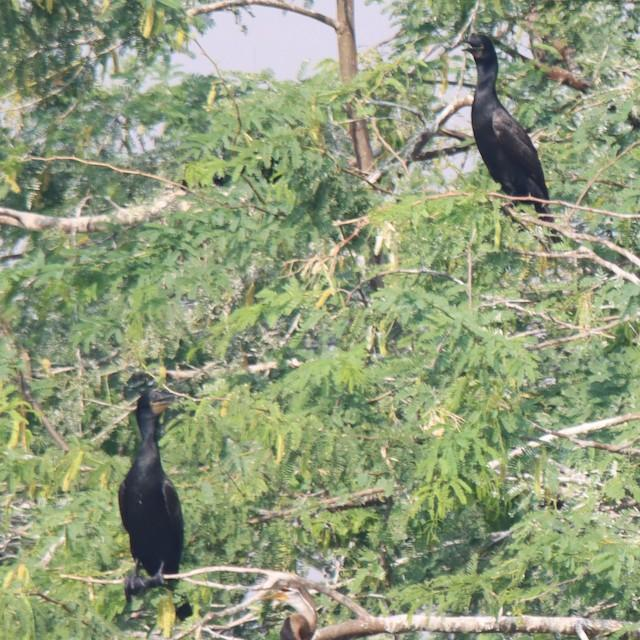cormorant: (449, 31, 569, 211), (114, 378, 198, 602)
